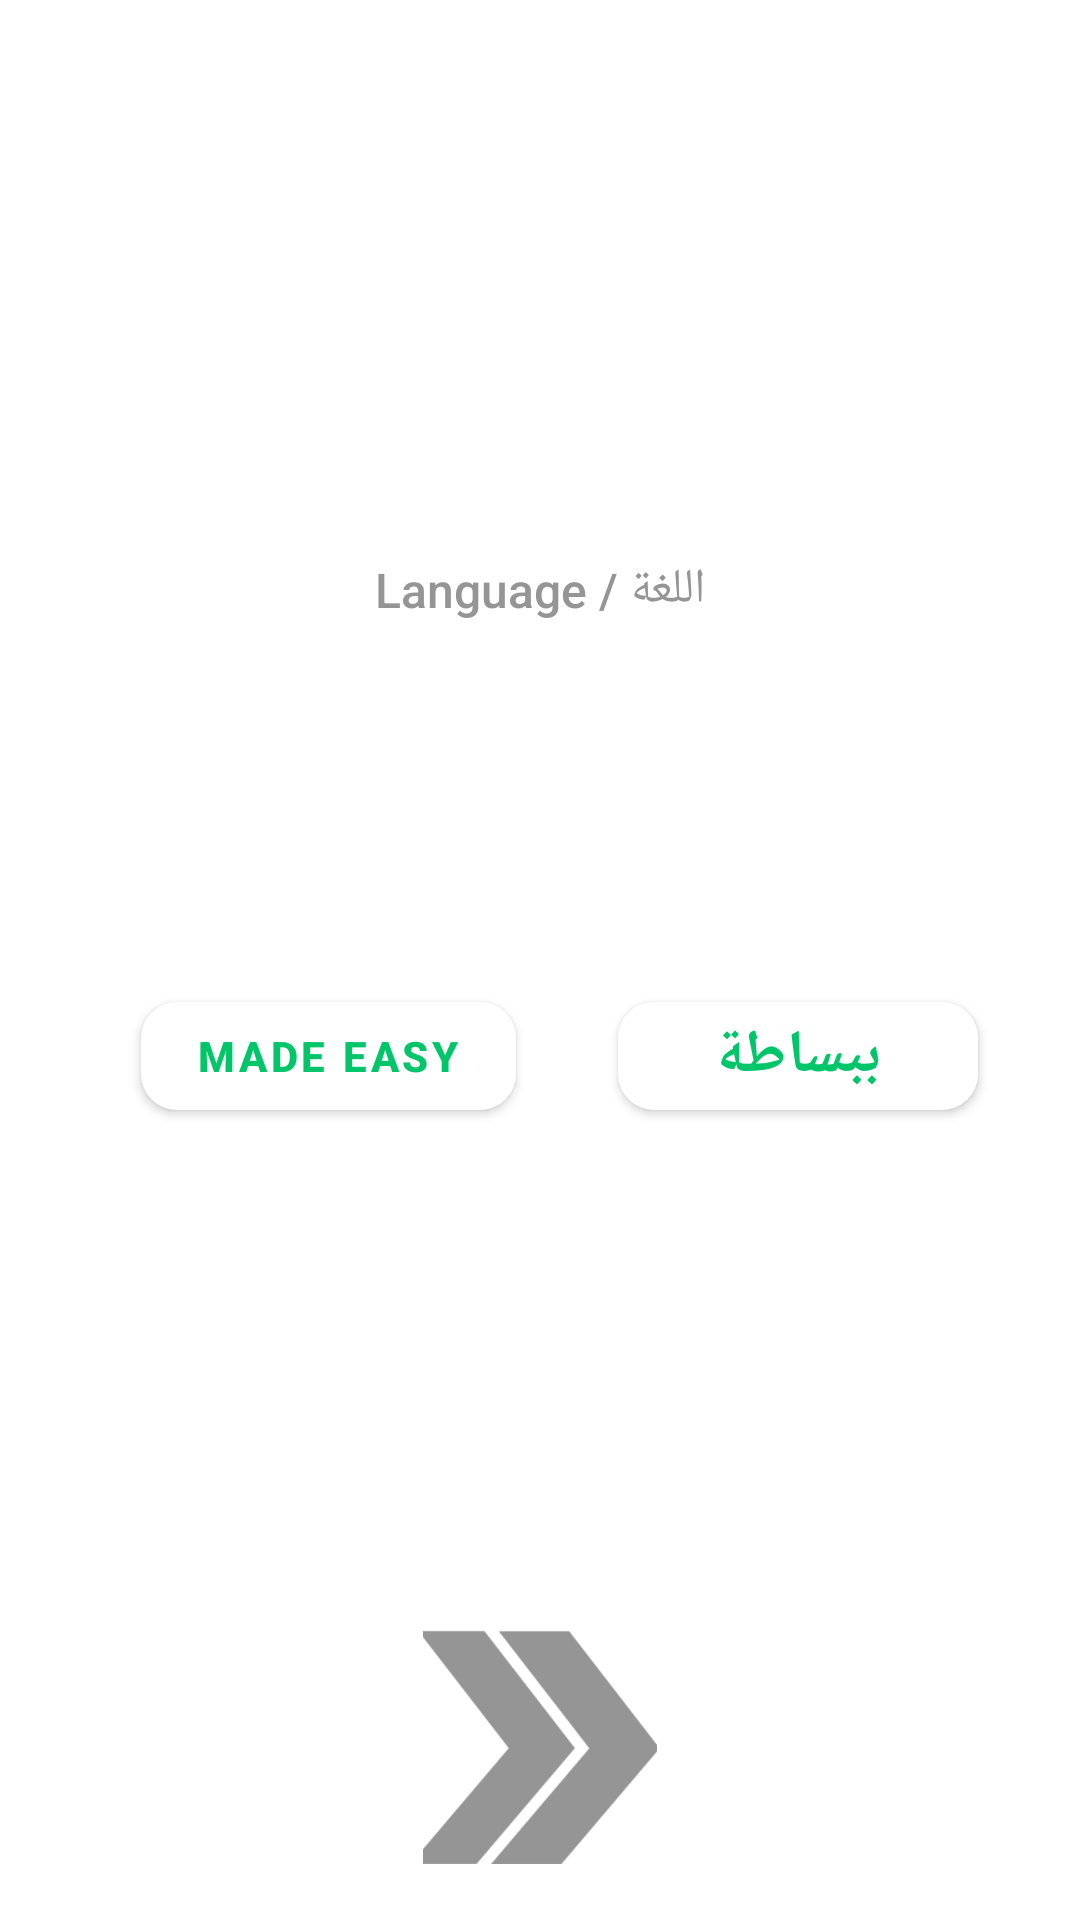

Point at icon controls on the screen. Image size 1080*1920, points as point (x, y).
next: point (540, 1747)
